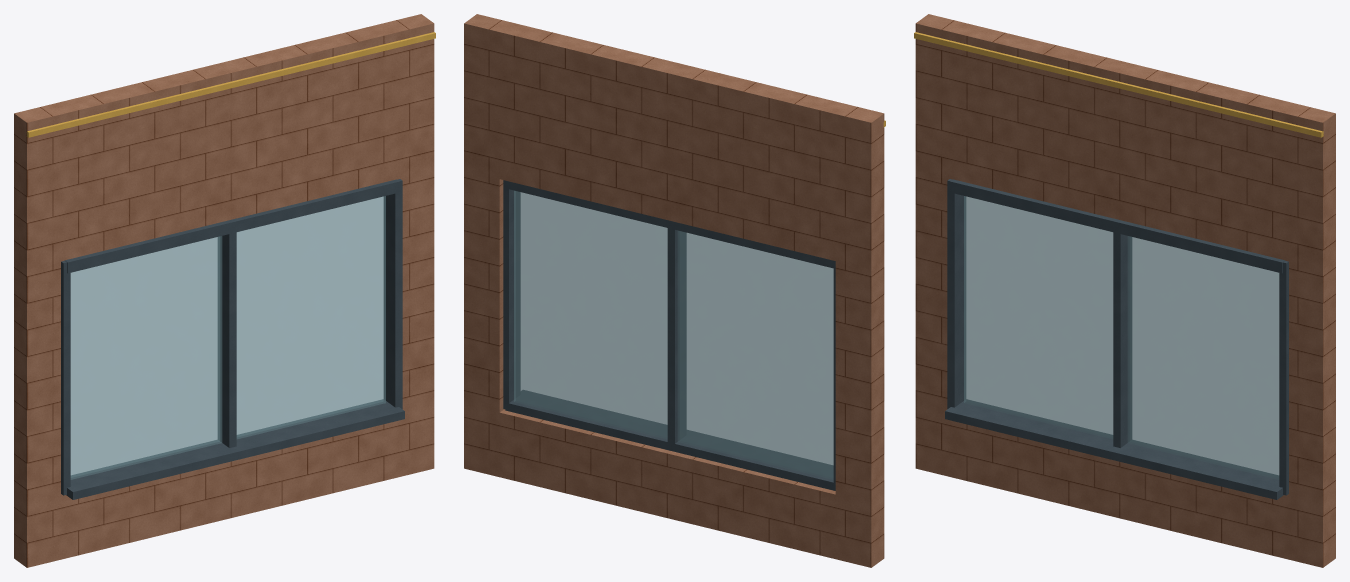
The model's file is PZ_GCR_03_Facade_Glazed_4m.glb.
3 renders of one model, left to right at view 1: azimuth 30°, elevation 25°; view 2: azimuth 150°, elevation 25°; view 3: azimuth 330°, elevation 25°, orthographic.
Visible parts, largest first — view 1: Facade_Glazed_4m__WindowPane_TintedGlass, Facade_Glazed_4m__Glazed_Bay_UpperWall, Facade_Glazed_4m__Glazed_Bay_Pier_Left, Facade_Glazed_4m__Glazed_Bay_Kickwall, Facade_Glazed_4m__Glazed_Bay_Pier_Right, Facade_Glazed_4m__WindowFrame_Vertical, Facade_Glazed_4m__WindowFrame_Sill, Facade_Glazed_4m__WindowFrame_Head, Facade_Glazed_4m__Facade_Accent_Band; view 2: Facade_Glazed_4m__WindowPane_TintedGlass, Facade_Glazed_4m__Glazed_Bay_UpperWall, Facade_Glazed_4m__Glazed_Bay_Kickwall, Facade_Glazed_4m__Glazed_Bay_Pier_Left, Facade_Glazed_4m__Glazed_Bay_Pier_Right, Facade_Glazed_4m__WindowFrame_Vertical, Facade_Glazed_4m__WindowFrame_Sill, Facade_Glazed_4m__WindowFrame_Head; view 3: Facade_Glazed_4m__WindowPane_TintedGlass, Facade_Glazed_4m__Glazed_Bay_UpperWall, Facade_Glazed_4m__Glazed_Bay_Pier_Right, Facade_Glazed_4m__Glazed_Bay_Kickwall, Facade_Glazed_4m__Glazed_Bay_Pier_Left, Facade_Glazed_4m__WindowFrame_Vertical, Facade_Glazed_4m__WindowFrame_Sill, Facade_Glazed_4m__WindowFrame_Head, Facade_Glazed_4m__Facade_Accent_Band.
Boxes of the visible parts, x1,y1,x2,y2 form: Facade_Glazed_4m__WindowPane_TintedGlass: (70,196,385,479); Facade_Glazed_4m__Glazed_Bay_UpperWall: (50,22,398,260); Facade_Glazed_4m__Glazed_Bay_Pier_Left: (14,104,62,567); Facade_Glazed_4m__Glazed_Bay_Kickwall: (62,420,398,558); Facade_Glazed_4m__Glazed_Bay_Pier_Right: (386,14,434,476); Facade_Glazed_4m__WindowFrame_Vertical: (61,179,402,495); Facade_Glazed_4m__WindowFrame_Sill: (66,399,404,499); Facade_Glazed_4m__WindowFrame_Head: (65,179,399,273); Facade_Glazed_4m__Facade_Accent_Band: (26,32,435,137); Facade_Glazed_4m__WindowPane_TintedGlass: (514,190,833,479); Facade_Glazed_4m__Glazed_Bay_UpperWall: (499,22,848,260); Facade_Glazed_4m__Glazed_Bay_Kickwall: (499,409,835,558); Facade_Glazed_4m__Glazed_Bay_Pier_Left: (835,105,884,567); Facade_Glazed_4m__Glazed_Bay_Pier_Right: (464,14,511,477); Facade_Glazed_4m__WindowFrame_Vertical: (503,180,835,489); Facade_Glazed_4m__WindowFrame_Sill: (505,390,835,490); Facade_Glazed_4m__WindowFrame_Head: (504,180,835,268); Facade_Glazed_4m__WindowPane_TintedGlass: (964,196,1279,479); Facade_Glazed_4m__Glazed_Bay_UpperWall: (951,22,1299,260); Facade_Glazed_4m__Glazed_Bay_Pier_Right: (1287,104,1335,567); Facade_Glazed_4m__Glazed_Bay_Kickwall: (951,420,1287,558); Facade_Glazed_4m__Glazed_Bay_Pier_Left: (915,14,963,476); Facade_Glazed_4m__WindowFrame_Vertical: (947,179,1288,495); Facade_Glazed_4m__WindowFrame_Sill: (945,399,1283,499); Facade_Glazed_4m__WindowFrame_Head: (950,179,1284,273); Facade_Glazed_4m__Facade_Accent_Band: (914,32,1323,137).
Size of the model in its own units: 4 by 4.18 by 0.36.
Materials: 4 (4 with a texture image).
